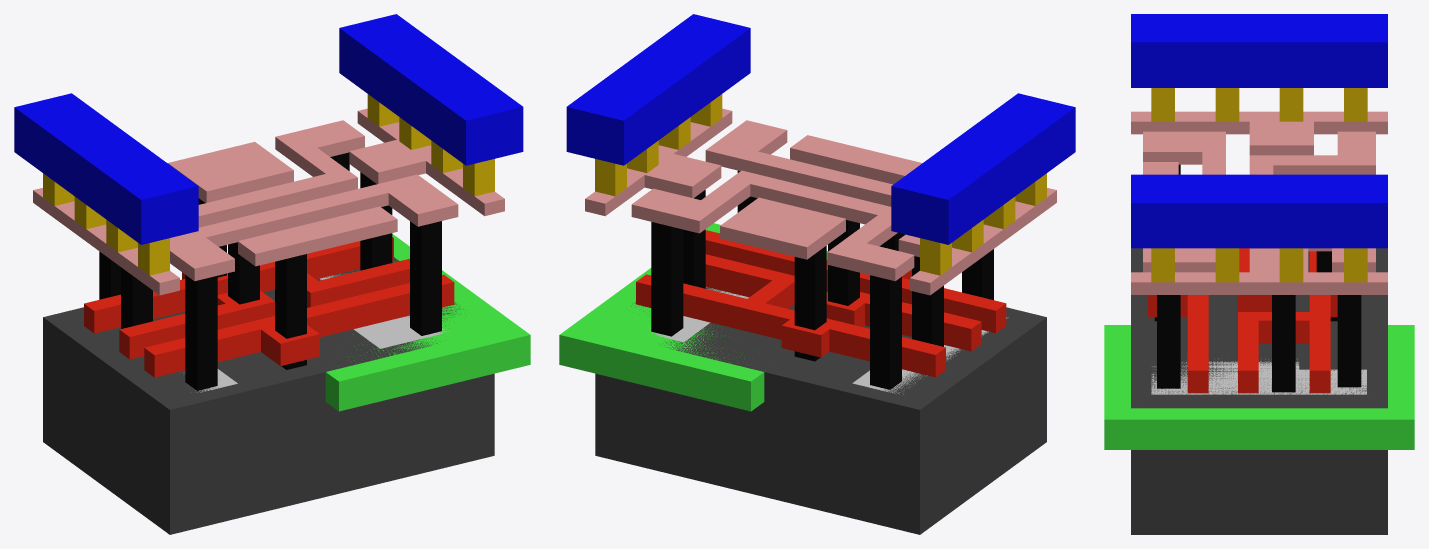
File: sky130_fd_sc_hd__einvn_0.obj
The picture shows the model from 3 angles, left to right: view 1: azimuth 30°, elevation 25°; view 2: azimuth 150°, elevation 25°; view 3: azimuth 270°, elevation 25°; orthographic projection.
Parts seen in each view (by area): view 1: subs, li, metal1, poly, licon, nwell, mcon, tap; view 2: subs, li, metal1, poly, licon, nwell, mcon, diff, tap; view 3: metal1, subs, li, nwell, poly, licon, mcon, tap.
Boxes of the visible parts, left/top/right/bottom form: subs: left=43, top=257, right=494, bottom=534; li: left=33, top=108, right=504, bottom=295; metal1: left=14, top=14, right=523, bottom=244; poly: left=84, top=237, right=454, bottom=377; licon: left=99, top=152, right=441, bottom=390; nwell: left=325, top=234, right=530, bottom=411; mcon: left=43, top=94, right=494, bottom=275; tap: left=320, top=274, right=448, bottom=348; subs: left=595, top=287, right=1046, bottom=534; li: left=585, top=108, right=1056, bottom=295; metal1: left=566, top=14, right=1075, bottom=244; poly: left=636, top=230, right=1006, bottom=377; licon: left=651, top=170, right=993, bottom=389; nwell: left=559, top=223, right=827, bottom=411; mcon: left=595, top=94, right=1046, bottom=275; diff: left=852, top=317, right=1008, bottom=394; tap: left=649, top=287, right=748, bottom=342; metal1: left=1131, top=14, right=1387, bottom=248; subs: left=1131, top=248, right=1387, bottom=534; li: left=1131, top=111, right=1387, bottom=294; nwell: left=1104, top=325, right=1414, bottom=449; poly: left=1147, top=248, right=1337, bottom=393; licon: left=1154, top=164, right=1361, bottom=392; mcon: left=1151, top=88, right=1367, bottom=282; tap: left=1151, top=359, right=1366, bottom=394.
Size of the model in its own units: 3.2 by 2.74 by 2.22.
